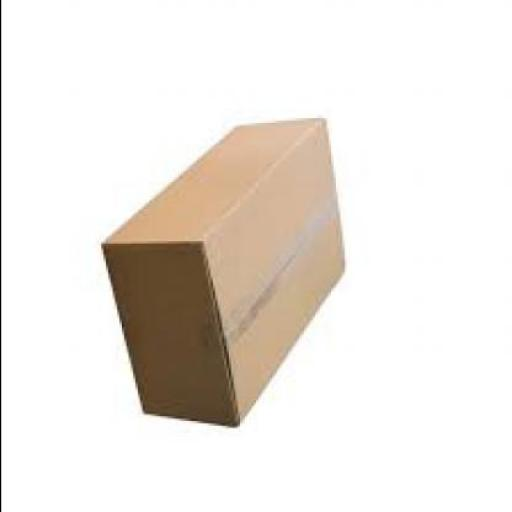cardboard: (104, 116, 346, 423)
